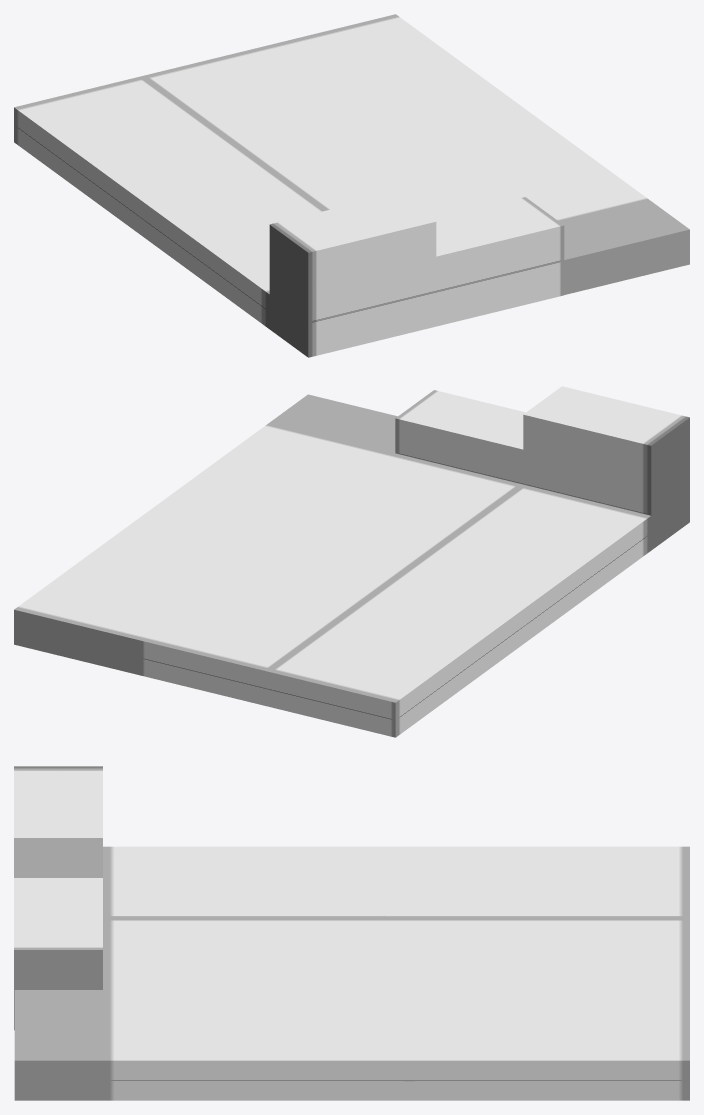
Rendered from blackout.gltf.
3 renders of one model, top to bottom at view 1: azimuth 30°, elevation 25°; view 2: azimuth 150°, elevation 25°; view 3: azimuth 270°, elevation 25°, orthographic. The views are drawn at different scales.
Parts seen in each view (by area): view 1: Cube; view 2: Cube; view 3: Cube.
Boxes of the visible parts, x1=… form: Cube: x1=14, y1=14, x2=689, y2=357; Cube: x1=14, y1=386, x2=689, y2=737; Cube: x1=14, y1=766, x2=689, y2=1100.
Size of the model in its own units: 22.84 by 6 by 30.51.
1 material, 1 textured.
